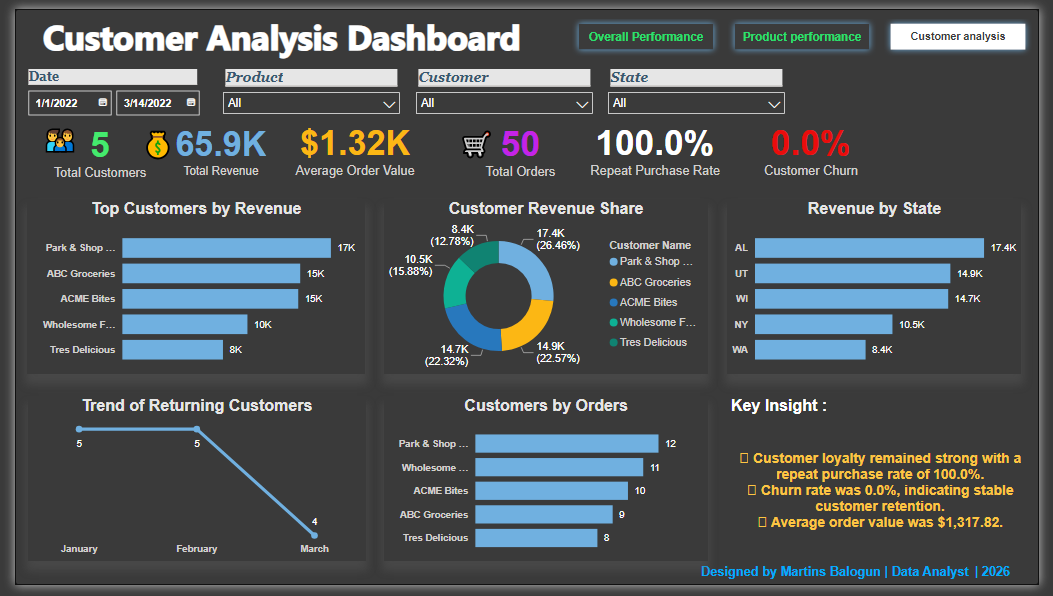

The page's visual inventory and layout, read from the dashboard file:
{"tool":"powerbi","page":{"name":"Customer analysis","canvas":[1280,720],"ordinal":2},"visuals":[{"type":"textbox","box":[30.6,0,733.1,70.1],"z":0},{"type":"slicer","fields":{"Values":["Orders.OrderDate"]},"box":[3.8,70.1,237.1,151.7],"z":1000},{"type":"slicer","fields":{"Values":["Product.CookieName"]},"box":[249.9,70.1,241,70.1],"z":2000},{"type":"slicer","fields":{"Values":["Customers.CustomerName"]},"box":[490.8,70.1,241,70.1],"z":3000},{"type":"slicer","fields":{"Values":["Customers.State"]},"box":[731.8,70.1,241,70.1],"z":4000},{"type":"card","fields":{"Values":["Order_Product.Total Revenue"]},"box":[165.7,126.2,182.3,95.6],"z":5000},{"type":"card","fields":{"Values":["_Measures.Total Customers"]},"box":[15.3,127.5,182.3,95.6],"z":6000},{"type":"card","fields":{"Values":["_Measures.Total Orders"]},"box":[543.1,126.2,178.5,95.6],"z":7000},{"type":"card","fields":{"Values":["_Measures.Customer Retention Rate"]},"box":[696.1,126.2,207.8,94.3],"z":8000},{"type":"card","fields":{"Values":["_Measures.Average Order Value"]},"box":[326.4,126.2,197.6,95.6],"z":9000},{"type":"textbox","box":[852.9,689.7,427.1,30.6],"z":10000},{"type":"textbox","box":[155.5,141.5,82.9,91.8],"z":11000},{"type":"textbox","box":[549.5,140.2,82.9,91.8],"z":12000},{"type":"textbox","box":[30.6,140.2,82.9,91.8],"z":13000},{"type":"card","fields":{"Values":["_Measures.Customer Churn  %"]},"box":[903.9,126.2,182.3,94.3],"z":14000},{"type":"clusteredBarChart","title":"Top  Customers by Revenue","fields":{"Category":["Customers.CustomerName"],"Y":["_Measures.Total Revenue"]},"box":[15.3,238.4,423.3,218],"z":15000},{"type":"clusteredBarChart","title":"Revenue by State","fields":{"Y":["_Measures.Total Revenue"],"Category":["Customers.State"]},"box":[889.9,238.4,368.4,218],"z":16000},{"type":"donutChart","title":"Customer Revenue  Share","fields":{"Y":["_Measures.Total Revenue"],"Category":["Flat File.CustomerName"]},"box":[461.5,238.4,405.4,218],"z":17000},{"type":"lineChart","title":"Trend of Returning Customers","fields":{"Y":["_Measures.Returning Customer"],"Category":["Orders.OrderDate.Variation.Date Hierarchy.Month"]},"box":[16.6,484.5,422,205.3],"z":18000},{"type":"barChart","title":"Customers by Orders","fields":{"Category":["Customers.CustomerName"],"Y":["_Measures.Total Orders"]},"box":[461.5,484.5,405.4,205.3],"z":19000},{"type":"pageNavigator","box":[696.1,10.2,576.3,49.7],"z":20000},{"type":"card","title":"Key Insight :","fields":{"Values":["_Measures.Customer Insight"]},"box":[889.9,484.5,382.5,204],"z":21000}]}

Visuals, with their boxes in screenshot pixels (x1, y1, x2, y2), scaled from the page's 1280x720 canvas onto the 1053x596 screenshot:
textbox: bbox(25, 0, 628, 58)
slicer - Orders.OrderDate: bbox(3, 58, 198, 184)
slicer - Product.CookieName: bbox(206, 58, 404, 116)
slicer - Customers.CustomerName: bbox(404, 58, 602, 116)
slicer - Customers.State: bbox(602, 58, 800, 116)
card - Order_Product.Total Revenue: bbox(136, 104, 286, 184)
card - _Measures.Total Customers: bbox(13, 106, 163, 185)
card - _Measures.Total Orders: bbox(447, 104, 594, 184)
card - _Measures.Customer Retention Rate: bbox(573, 104, 744, 183)
card - _Measures.Average Order Value: bbox(269, 104, 431, 184)
textbox: bbox(702, 571, 1052, 595)
textbox: bbox(128, 117, 196, 193)
textbox: bbox(452, 116, 520, 192)
textbox: bbox(25, 116, 93, 192)
card - _Measures.Customer Churn  %: bbox(744, 104, 894, 183)
"Top  Customers by Revenue" clusteredBarChart: bbox(13, 197, 361, 378)
"Revenue by State" clusteredBarChart: bbox(732, 197, 1035, 378)
"Customer Revenue  Share" donutChart: bbox(380, 197, 713, 378)
"Trend of Returning Customers" lineChart: bbox(14, 401, 361, 571)
"Customers by Orders" barChart: bbox(380, 401, 713, 571)
pageNavigator: bbox(573, 8, 1047, 50)
"Key Insight :" card: bbox(732, 401, 1047, 570)
